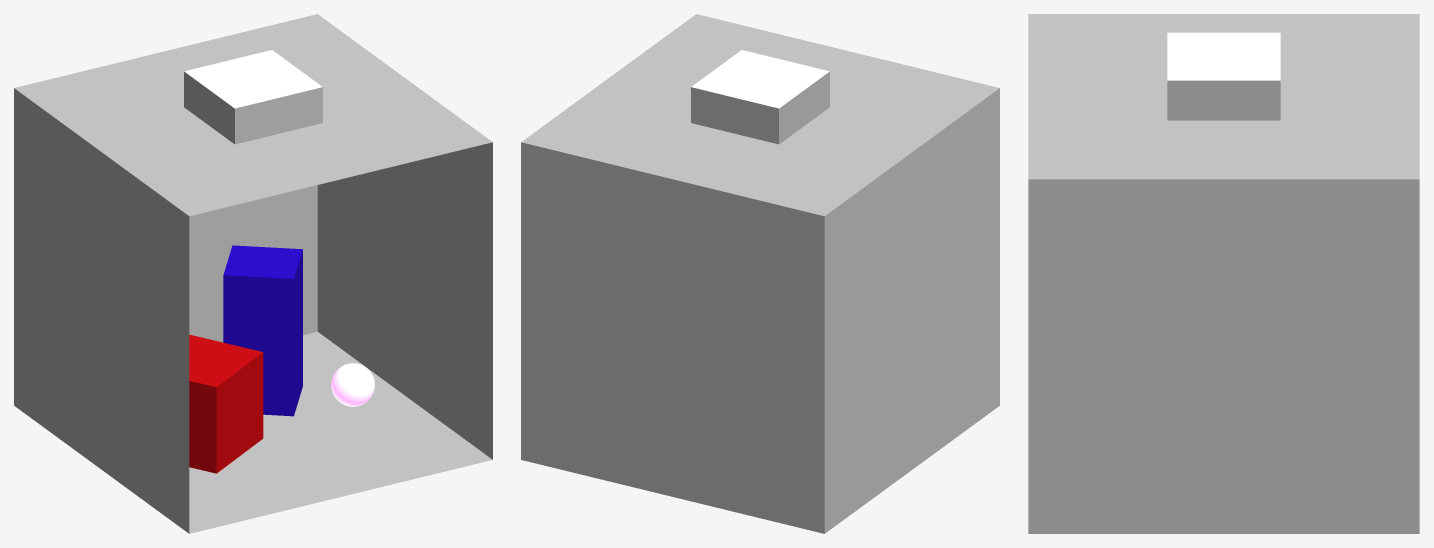
The model's file is Room2.glb.
The picture shows the model from 3 angles, left to right: view 1: azimuth 30°, elevation 25°; view 2: azimuth 150°, elevation 25°; view 3: azimuth 270°, elevation 25°; orthographic projection. The views are drawn at different scales.
Visible parts, largest first — view 1: Cube.001, Cube.003, Cube.002, Sphere; view 2: Cube.001; view 3: Cube.001.
Part boxes in pixels (x1,y1,x2,y2): Cube.001: [14, 14, 492, 533]; Cube.003: [223, 245, 302, 416]; Cube.002: [189, 334, 263, 473]; Sphere: [331, 363, 374, 406]; Cube.001: [521, 14, 999, 533]; Cube.001: [1028, 14, 1419, 533].
Size of the model in its own units: 16 by 17.82 by 16.
